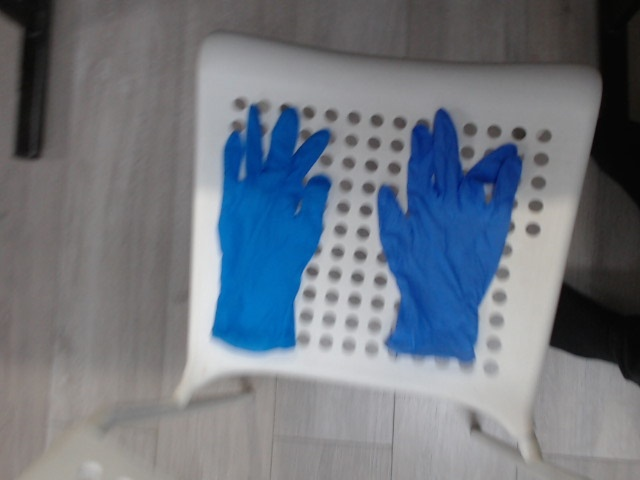medical_glove: (378, 108, 519, 357), (212, 105, 331, 347)
